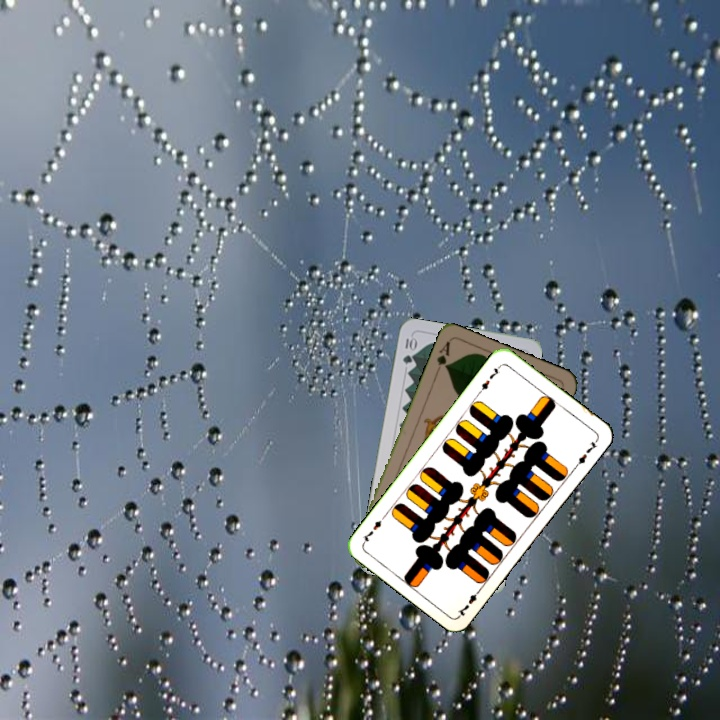E7: (454, 584, 484, 619), (475, 361, 504, 396)
G10: (399, 333, 418, 366)
GA: (431, 337, 453, 377)
